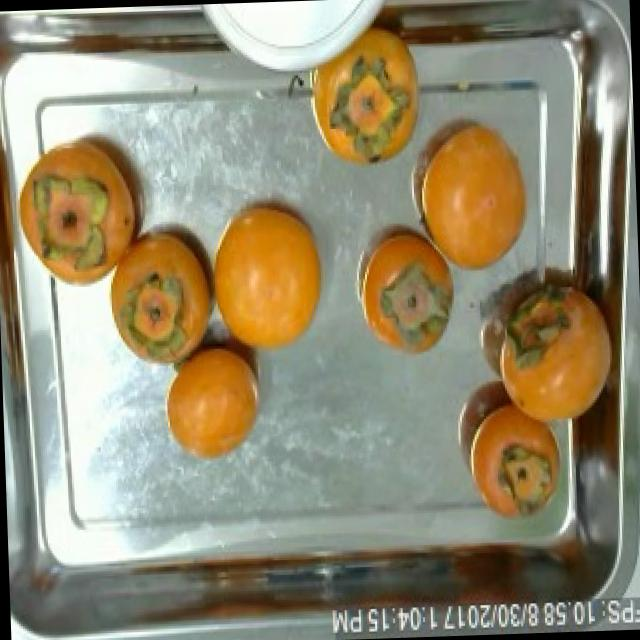Fruit: (476, 238, 622, 447), (15, 107, 161, 300), (204, 180, 338, 368), (405, 111, 537, 286), (96, 210, 222, 382), (296, 26, 425, 182), (347, 208, 468, 368), (452, 384, 570, 542), (150, 330, 274, 472)
